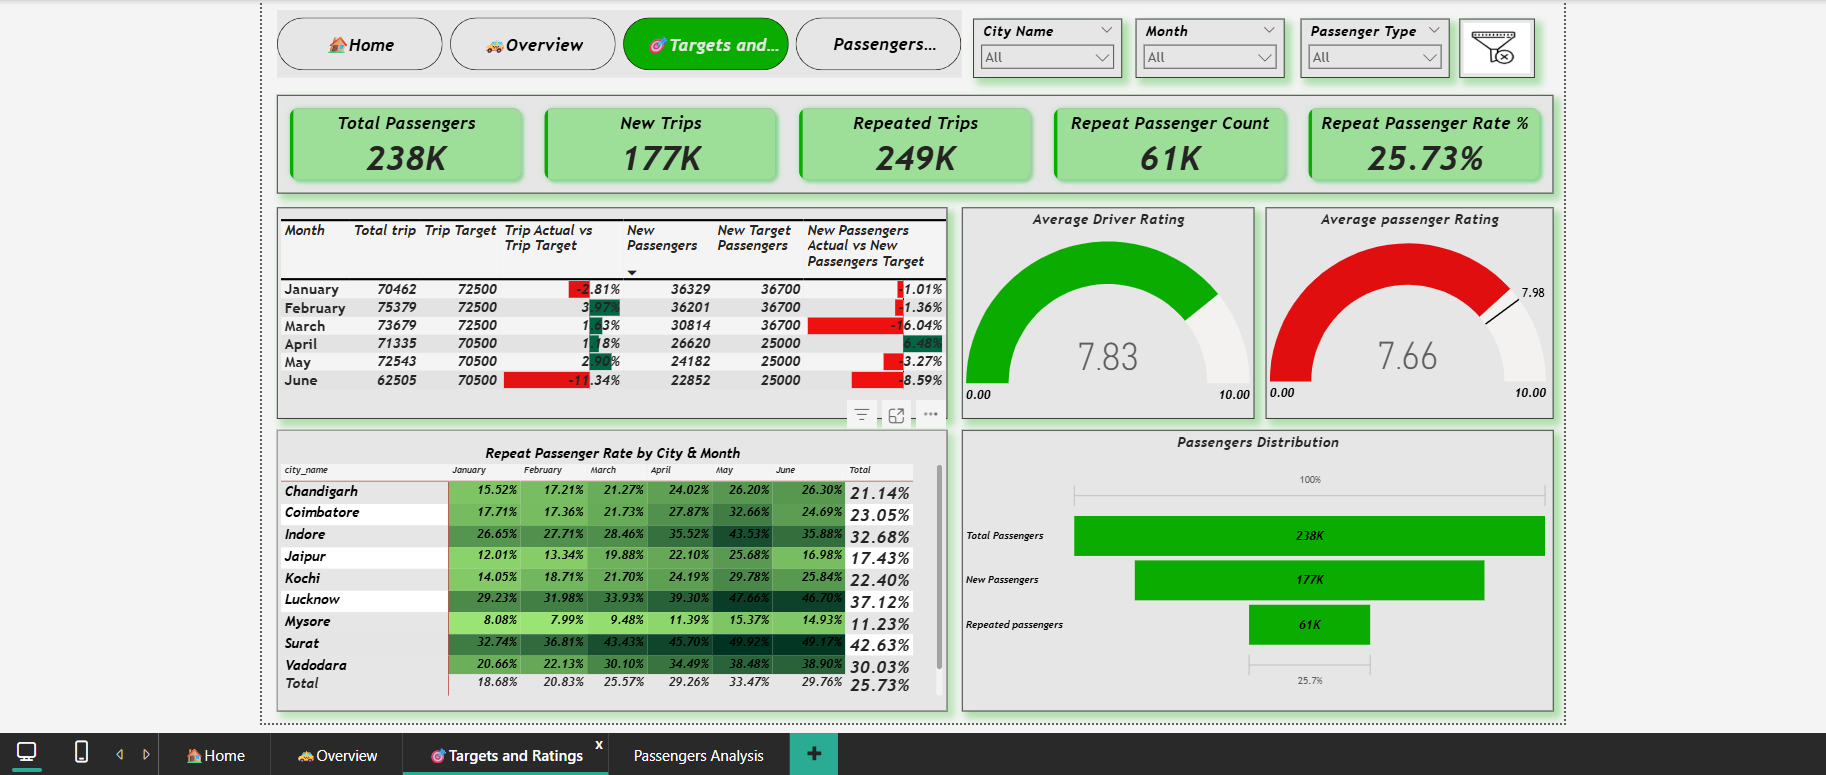

This screenshot's page, from the dashboard's own definition file:
{"tool":"powerbi","page":{"name":"🎯Targets and Ratings","canvas":[1800,1000],"ordinal":2},"visuals":[{"type":"cardVisual","fields":{"Data":["key measure.Total Passengers","key measure.New Trips","key measure.Repeated Trips","key measure.Repeat Passenger Count","key measure.Repeat Passenger Rate %"]},"box":[20.7,131.3,1764,136],"z":0},{"type":"funnel","title":"Passengers Distribution","fields":{"Y":["key measure.Total Passengers","key measure.New Passengers","key measure.Repeated passengers"]},"box":[967.5,594.3,817.2,388.7],"z":1000},{"type":"gauge","title":"Average passenger Rating","fields":{"Y":["key measure.Avg passenger Rating"]},"box":[1387.4,286.8,397.4,292],"z":2000},{"type":"pageNavigator","box":[20.7,13.8,946.8,93.3],"z":3000},{"type":"slicer","fields":{"Values":["dim_city.city_name"]},"box":[983.3,25.9,205.6,81.5],"z":4000},{"type":"slicer","fields":{"Values":["dim_date.month_name"]},"box":[1207.4,25.9,205.6,81.5],"z":5000},{"type":"slicer","fields":{"Values":["fact_trips.passenger_type"]},"box":[1435.2,25.9,205.6,81.5],"z":6000},{"type":"gauge","title":"Average Driver Rating","fields":{"Y":["key measure.Avg Driver Rating"]},"box":[967.5,286.8,404.3,292],"z":7000},{"type":"pivotTable","fields":{"Rows":["dim_date.month_name"],"Values":["key measure.Total trip","key measure.Trip Target","key measure.Trip Actual vs Trip Target","key measure.New Passengers","key measure.New Target Passengers","key measure.New Passengers Actual vs New Passengers Target"]},"box":[20.7,286.8,926.1,292],"z":8000},{"type":"pivotTable","title":"Repeat Passenger Rate by City & Month","fields":{"Rows":["dim_city.city_name"],"Columns":["dim_date.month_name"],"Values":["key measure.Repeat Passenger Rate %"]},"box":[20.7,594.3,926.1,388.7],"z":9000},{"type":"image","box":[1655.2,25.9,103.7,81.2],"z":10000}]}

Visuals, with their boxes on the page's 1800x1000 design canvas (x1, y1, x2, y2). These are canvas units, not pixel positions in the 1826x775 screenshot, which may show the page scaled, cropped or inside an application window:
cardVisual - key measure.Total Passengers x key measure.New Trips: region(21, 131, 1785, 267)
"Passengers Distribution" funnel: region(968, 594, 1785, 983)
"Average passenger Rating" gauge: region(1387, 287, 1785, 579)
pageNavigator: region(21, 14, 968, 107)
slicer - dim_city.city_name: region(983, 26, 1189, 107)
slicer - dim_date.month_name: region(1207, 26, 1413, 107)
slicer - fact_trips.passenger_type: region(1435, 26, 1641, 107)
"Average Driver Rating" gauge: region(968, 287, 1372, 579)
pivotTable - dim_date.month_name x key measure.Total trip: region(21, 287, 947, 579)
"Repeat Passenger Rate by City & Month" pivotTable: region(21, 594, 947, 983)
image: region(1655, 26, 1759, 107)
